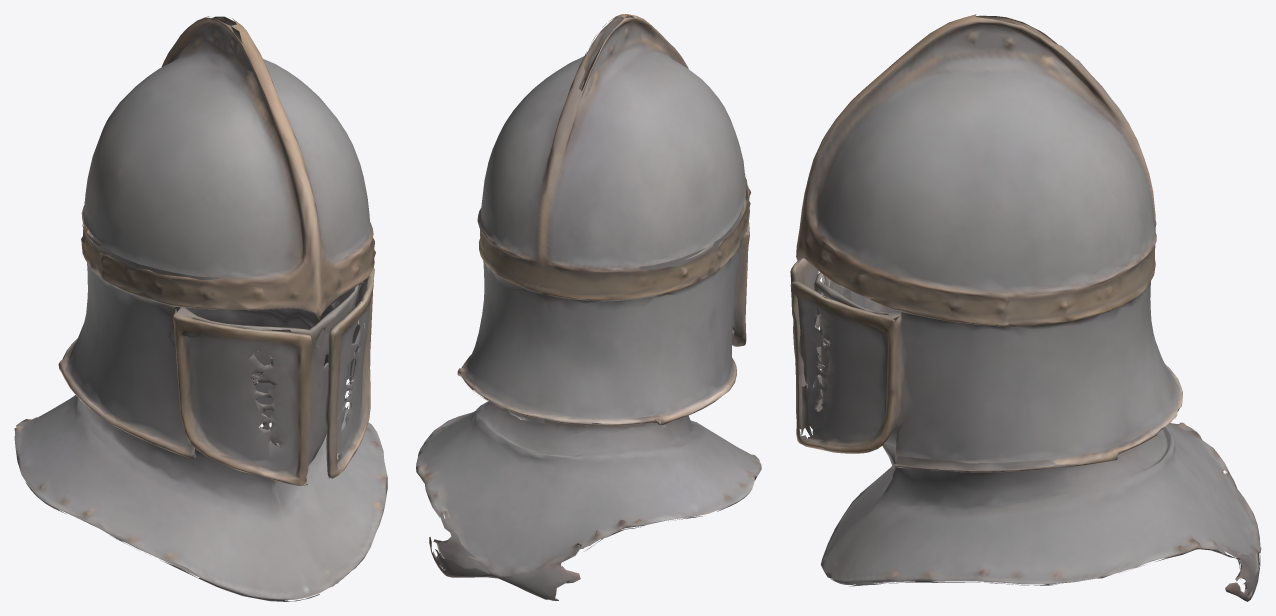
File: armor_warrior_plate_helm.glb
3 views of the same model, side by side, from view 1: azimuth 30°, elevation 25°; view 2: azimuth 150°, elevation 25°; view 3: azimuth 270°, elevation 25° (orthographic). The views are drawn at different scales.
Parts seen in each view (by area): view 1: world; view 2: world; view 3: world.
Part boxes in pixels (x1,y1,x2,y2): world: (14,16,387,601); world: (416,14,761,600); world: (790,14,1261,601).
Bounding box in the file's own units: 0.6479 × 0.9996 × 0.7689.
1 material, 1 textured.
